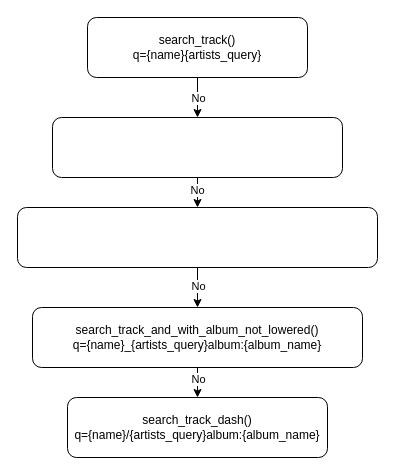
Some shapes in this 395 by 475 pixel diagram are drawn without their labels. The centre of each missing label's shape, as x and y in pixels:
"search_track_and_with_album() q={name}_{artists_query}album:{album_name.lower()}" belongs at pixel 197 237.
"search_track_with_name_separator() q={name}_{artists_query}" belongs at pixel 197 147.
